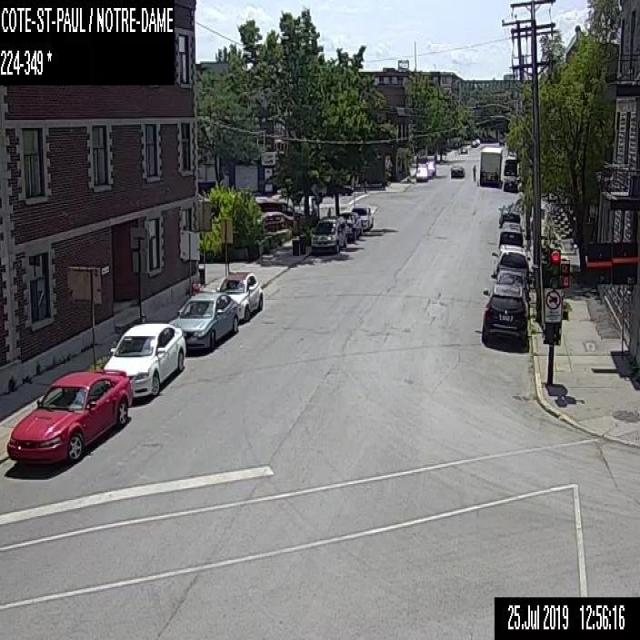pedestrian: (472, 162, 476, 181), (326, 205, 331, 215)
vehicle: (7, 370, 132, 462), (103, 322, 185, 398), (168, 292, 237, 349), (481, 283, 530, 345), (215, 271, 262, 321), (309, 216, 345, 254), (490, 244, 530, 278), (253, 198, 307, 218), (494, 269, 527, 297), (479, 146, 502, 186), (338, 211, 362, 239), (255, 211, 292, 229), (498, 221, 524, 246), (497, 203, 520, 226), (350, 206, 373, 228), (503, 156, 517, 175), (415, 162, 428, 182), (502, 175, 517, 192), (449, 164, 465, 178), (426, 160, 436, 176), (457, 146, 467, 153), (470, 140, 476, 146)
